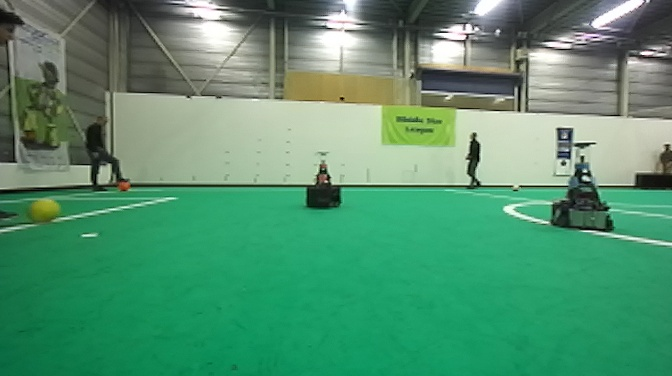ball: (24, 196, 63, 230), (116, 179, 132, 193), (509, 181, 522, 196)
human: (81, 113, 124, 194), (460, 129, 486, 191)
robot: (546, 140, 617, 234), (303, 147, 345, 211)
